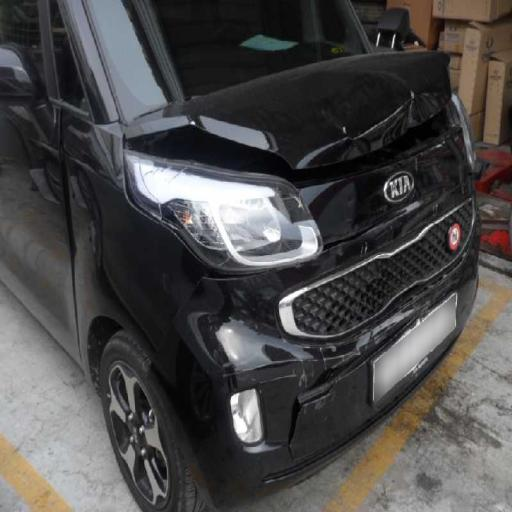scratch: (286, 305, 474, 376)
